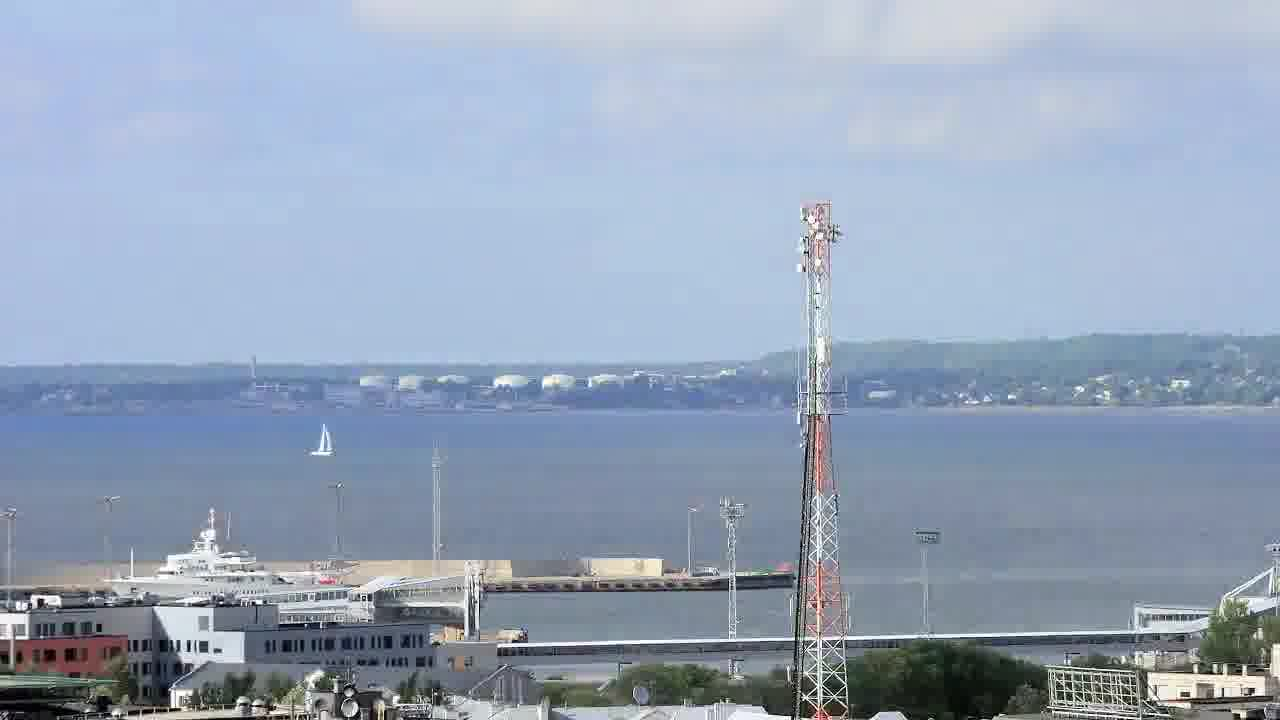type-2: (304, 413, 342, 464)
type-3: (98, 503, 361, 603)
